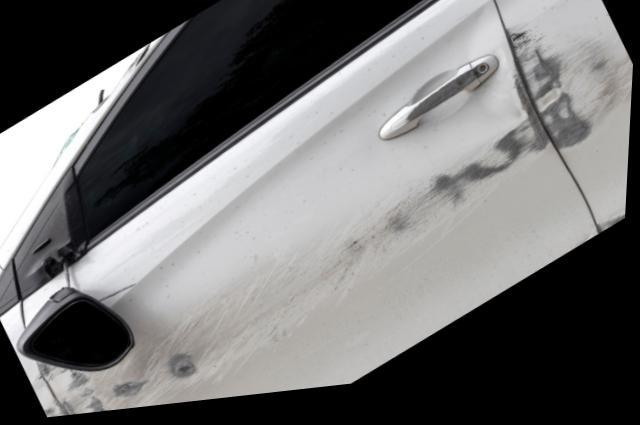scratch: (41, 81, 556, 417), (506, 31, 634, 160), (601, 222, 629, 247)
